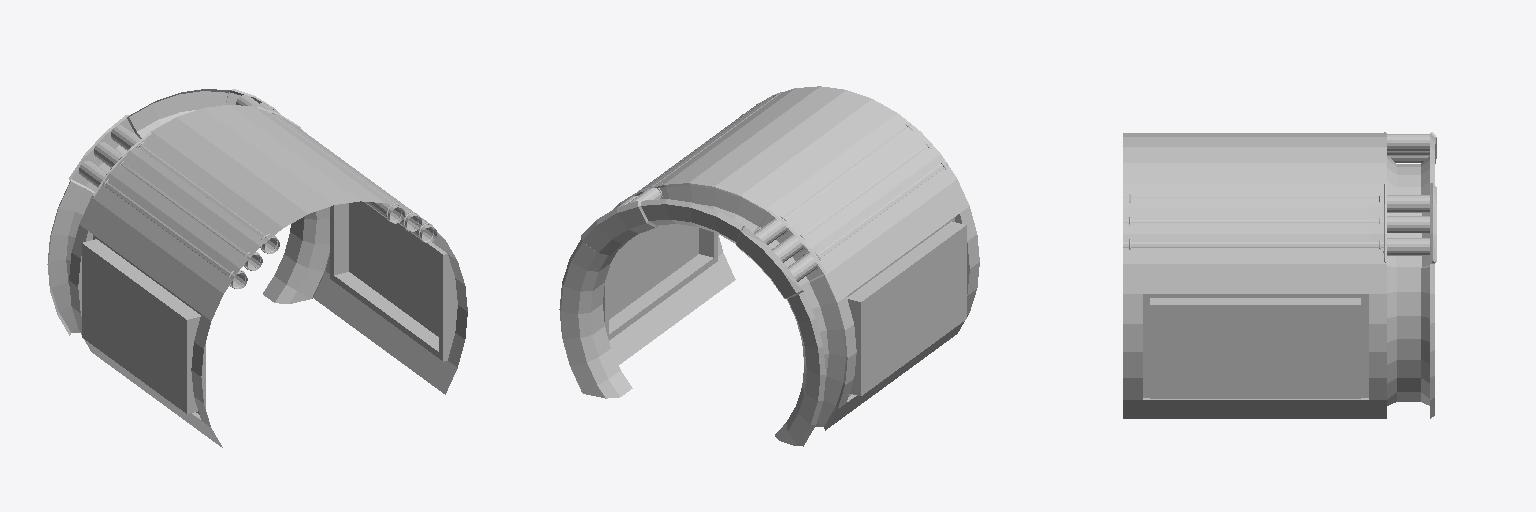
The model's file is Hallway_Wall_03.obj.
3 views of the same model, side by side, from view 1: azimuth 30°, elevation 25°; view 2: azimuth 150°, elevation 25°; view 3: azimuth 270°, elevation 25° (orthographic).
Parts seen in each view (by area): view 1: Wall_03 Wall, Pipes Wall_03; view 2: Wall_03 Wall, Pipes Wall_03; view 3: Wall_03 Wall, Pipes Wall_03, Wall_03 Light.
Part boxes in pixels (bbox=[...]): Wall_03 Wall: bbox=[47, 89, 467, 447]; Pipes Wall_03: bbox=[79, 95, 436, 288]; Wall_03 Wall: bbox=[559, 86, 979, 446]; Pipes Wall_03: bbox=[618, 92, 947, 281]; Wall_03 Wall: bbox=[1123, 132, 1436, 418]; Pipes Wall_03: bbox=[1123, 134, 1429, 255]; Wall_03 Light: bbox=[1397, 164, 1420, 194].
Size of the model in its own units: 100 by 77.78 by 102.